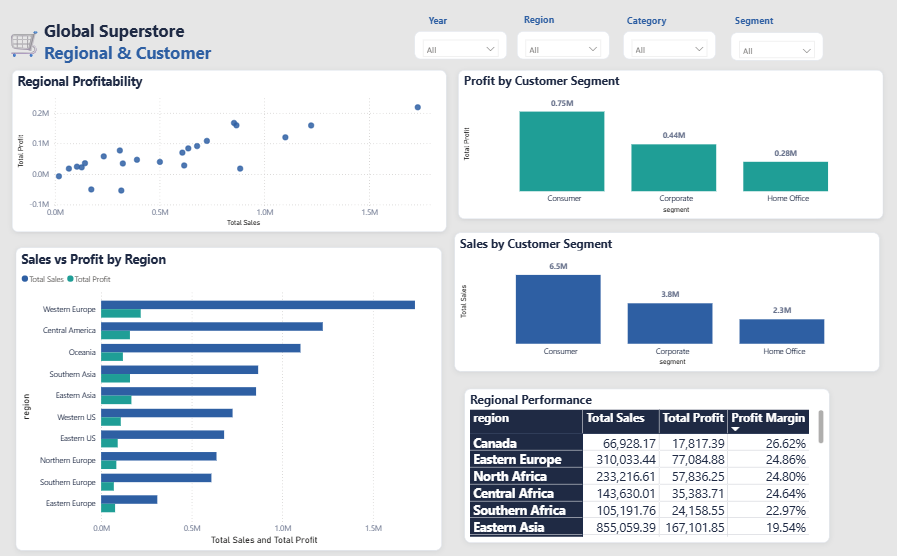

The dashboard page shown, as its layout file describes it:
{"tool":"powerbi","page":{"name":"03 Regional & Customer","canvas":[1440,900],"ordinal":2},"visuals":[{"type":"textbox","box":[70,25,661.7,128.3],"z":0},{"type":"slicer","fields":{"Values":["public dim_geography.region"]},"box":[831.7,50,148.3,45],"z":1000},{"type":"slicer","fields":{"Values":["public dim_product.category"]},"box":[1001.7,50,148.3,45],"z":2000},{"type":"slicer","fields":{"Values":["public dim_customer.segment"]},"box":[1173.3,51.7,148.3,45],"z":3000},{"type":"slicer","fields":{"Values":["public dim_geography.region"]},"box":[668.3,50,148.3,45],"z":4000},{"type":"textbox","box":[668.3,18.3,75,41.7],"z":5000},{"type":"textbox","box":[1001.7,18.3,75,41.7],"z":6000},{"type":"textbox","box":[830,16.7,75,41.7],"z":7000},{"type":"textbox","box":[1173.3,18.3,75,41.7],"z":8000},{"type":"columnChart","title":"Sales by Customer Segment","fields":{"Category":["public dim_customer.segment"],"Y":["public fact_order_lines.Total Sales"]},"box":[736.7,395,680,243.3],"z":9000},{"type":"columnChart","title":"Profit by Customer Segment","fields":{"Category":["public dim_customer.segment"],"Y":["public bridge_returns.Total Profit"]},"box":[737.4,111.6,680,260],"z":10000},{"type":"pivotTable","title":"Regional Performance","fields":{"Rows":["public dim_geography.region"],"Values":["public fact_order_lines.Total Sales","public bridge_returns.Total Profit","public bridge_returns.Profit Margin"]},"box":[815,656.7,525,223.3],"z":11000},{"type":"clusteredBarChart","title":"Sales vs Profit by Region","fields":{"Category":["public dim_geography.region"],"Y":["public fact_order_lines.Total Sales","public bridge_returns.Total Profit"]},"box":[30,395,681.7,485],"z":12000},{"type":"textbox","box":[0,33.2,86,78.4],"z":13000},{"type":"scatterChart","title":"Regional Profitability","fields":{"Category":["public dim_geography.region"],"X":["public fact_order_lines.Total Sales"],"Y":["public bridge_returns.Total Profit"]},"box":[24.1,111.6,695.2,259.4],"z":14000}]}

Visuals, with their boxes in screenshot pixels (x1, y1, x2, y2), scaled from the page's 1440x900 canvas onto the 897x556 screenshot:
textbox: 44, 15, 456, 95
slicer - public dim_geography.region: 518, 31, 610, 59
slicer - public dim_product.category: 624, 31, 716, 59
slicer - public dim_customer.segment: 731, 32, 823, 60
slicer - public dim_geography.region: 416, 31, 509, 59
textbox: 416, 11, 463, 37
textbox: 624, 11, 671, 37
textbox: 517, 10, 564, 36
textbox: 731, 11, 778, 37
"Sales by Customer Segment" columnChart: 459, 244, 882, 394
"Profit by Customer Segment" columnChart: 459, 69, 883, 230
"Regional Performance" pivotTable: 508, 406, 835, 544
"Sales vs Profit by Region" clusteredBarChart: 19, 244, 443, 544
textbox: 0, 21, 54, 69
"Regional Profitability" scatterChart: 15, 69, 448, 229
